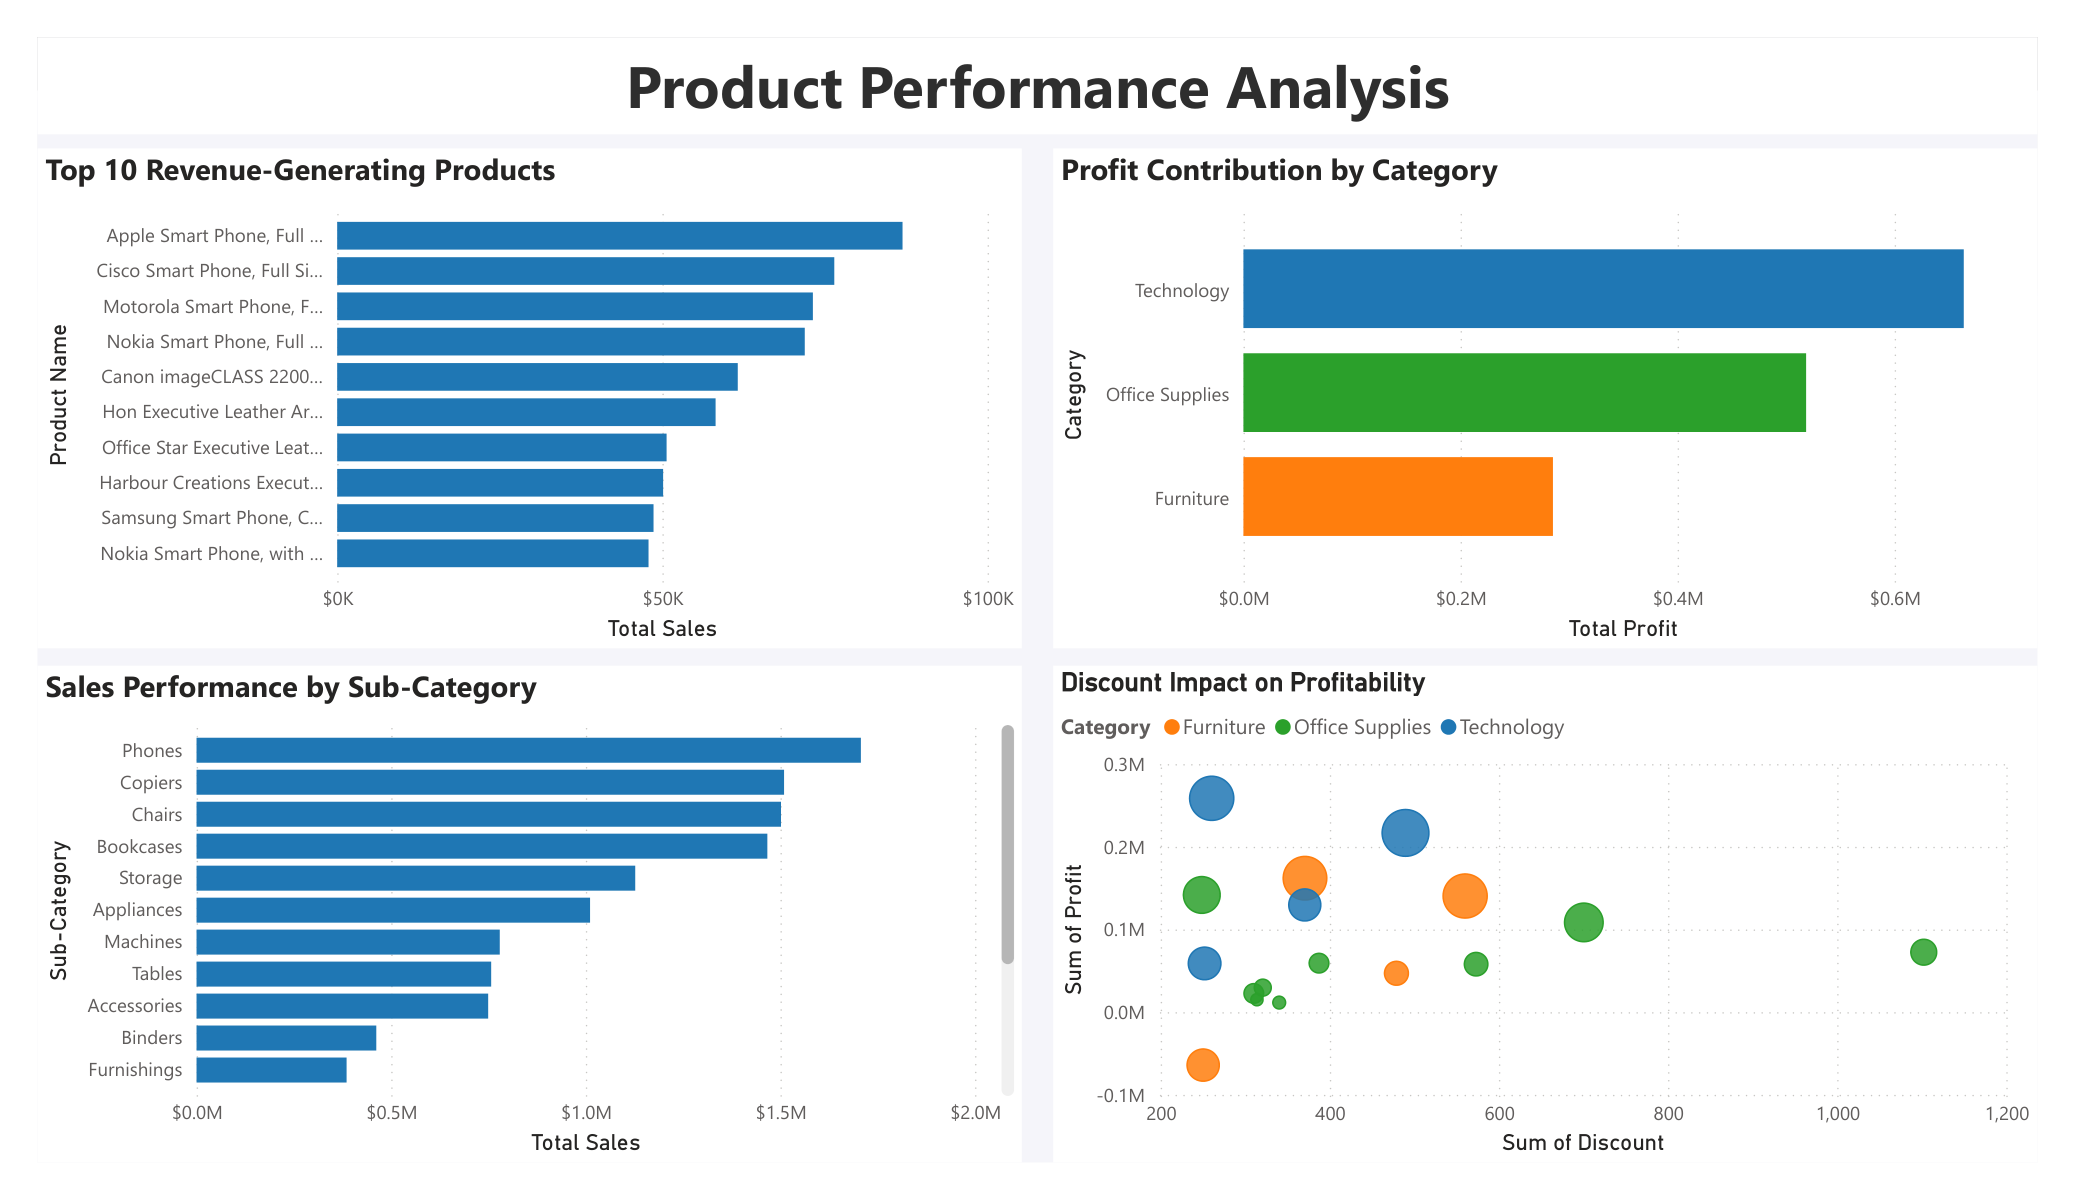

What the dashboard file says about the page in this screenshot:
{"tool":"powerbi","page":{"name":"Product Analysis","canvas":[1280,720],"ordinal":1},"visuals":[{"type":"clusteredBarChart","title":"Sales Performance by Sub-Category","fields":{"Category":["Global_Superstore2.Sub-Category"],"Y":["DateTable.Total Sales"]},"box":[0,402.1,629.8,318.4],"z":0},{"type":"clusteredBarChart","title":"Top 10 Revenue-Generating Products","fields":{"Category":["Global_Superstore2.Product Name"],"Y":["DateTable.Total Sales"]},"box":[0,71.4,629.8,319.7],"z":1000},{"type":"clusteredBarChart","title":"Profit Contribution by Category","fields":{"Category":["Global_Superstore2.Category"],"Y":["DateTable.Total Profit"]},"box":[650.4,71.4,629.8,319.7],"z":2000},{"type":"scatterChart","title":"Discount Impact on Profitability","fields":{"Category":["Global_Superstore2.Sub-Category"],"Series":["Global_Superstore2.Category"],"Size":["Sum(Global_Superstore2.Sales)"],"X":["Sum(Global_Superstore2.Discount)"],"Y":["Sum(Global_Superstore2.Profit)"]},"box":[650.4,402.1,629.8,318.4],"z":3000},{"type":"textbox","box":[0,0,1280.3,61.7],"z":9000}]}

Visuals, with their boxes on the page's 1280x720 design canvas (x1, y1, x2, y2). These are canvas units, not pixel positions in the 2075x1200 screenshot, which may show the page scaled, cropped or inside an application window:
"Sales Performance by Sub-Category" clusteredBarChart: 0, 402, 630, 720
"Top 10 Revenue-Generating Products" clusteredBarChart: 0, 71, 630, 391
"Profit Contribution by Category" clusteredBarChart: 650, 71, 1280, 391
"Discount Impact on Profitability" scatterChart: 650, 402, 1280, 720
textbox: 0, 0, 1280, 62
